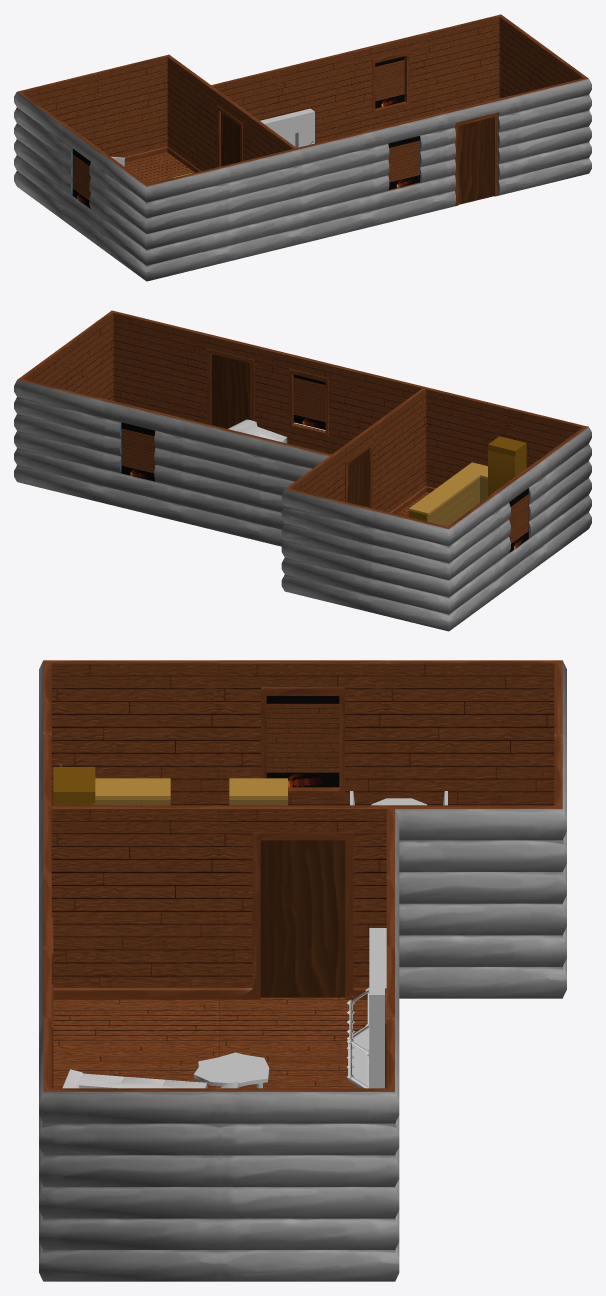
File: HouseSetup02.FBX
3 views of the same model, one above another, from view 1: azimuth 30°, elevation 25°; view 2: azimuth 150°, elevation 25°; view 3: azimuth 270°, elevation 25° (orthographic). The views are drawn at different scales.
Visible parts, largest first — view 1: Setup_002; view 2: Setup_002; view 3: Setup_002.
Part boxes in pixels (box(x1,y1,x2,y2)): Setup_002: box(14, 14, 591, 281); Setup_002: box(14, 310, 591, 631); Setup_002: box(39, 660, 566, 1281).
Size of the model in its own units: 1230 by 252 by 630.
